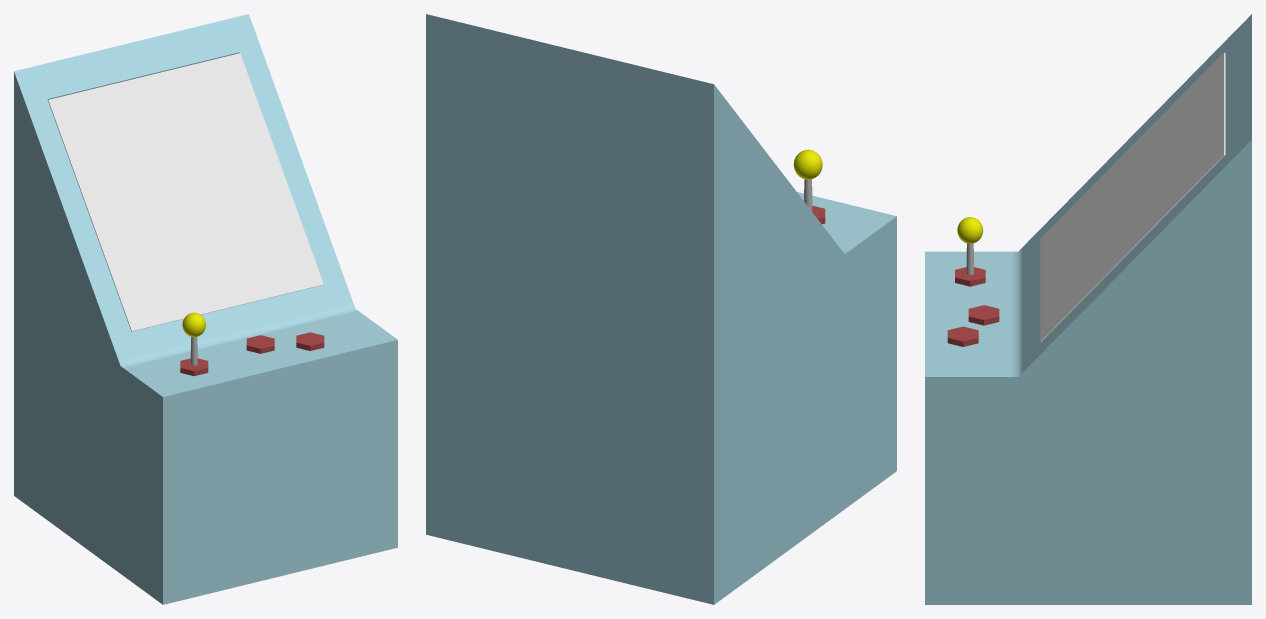
Rendered from Arcade Machine.fbx.
3 views of the same model, side by side, from view 1: azimuth 30°, elevation 25°; view 2: azimuth 150°, elevation 25°; view 3: azimuth 270°, elevation 25° (orthographic). The views are drawn at different scales.
Visible parts, largest first — view 1: polySurface1, screen; view 2: polySurface1, pSphere1; view 3: polySurface1, screen, pSphere1, pCylinder6, pCylinder5, pCylinder2.
Boxes of the visible parts, box(x1,y1,x2,y2) form: polySurface1: box(14, 14, 397, 604); screen: box(48, 53, 323, 331); polySurface1: box(426, 14, 896, 604); pSphere1: box(793, 149, 822, 179); polySurface1: box(925, 14, 1251, 604); screen: box(1040, 52, 1225, 341); pSphere1: box(957, 217, 983, 243); pCylinder6: box(947, 326, 978, 346); pCylinder5: box(968, 305, 999, 325); pCylinder2: box(955, 267, 985, 286).
Size of the model in its own units: 0.0091 by 0.0157 by 0.01.
